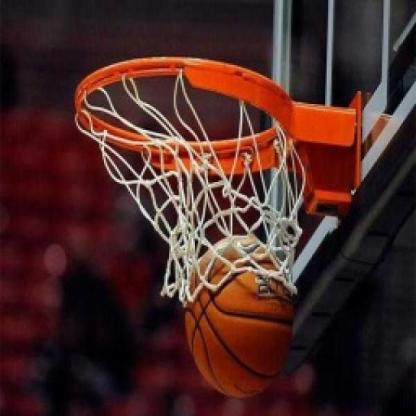basketball: (183, 236, 302, 398)
